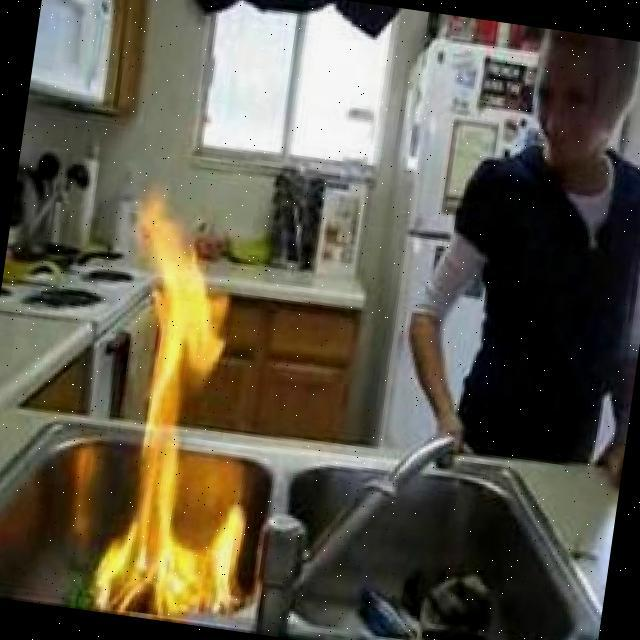Fire: (82, 197, 290, 622)
